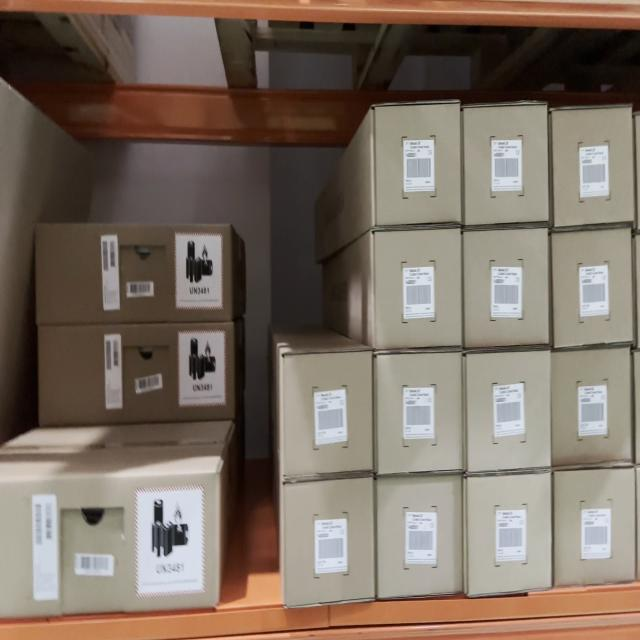box: (41, 322, 228, 413), (40, 230, 227, 314), (284, 485, 374, 599), (374, 109, 459, 228), (287, 355, 371, 475), (378, 358, 464, 475), (465, 106, 549, 223), (467, 355, 551, 467), (468, 232, 548, 345), (376, 237, 460, 344), (470, 480, 550, 591), (380, 486, 462, 589)
